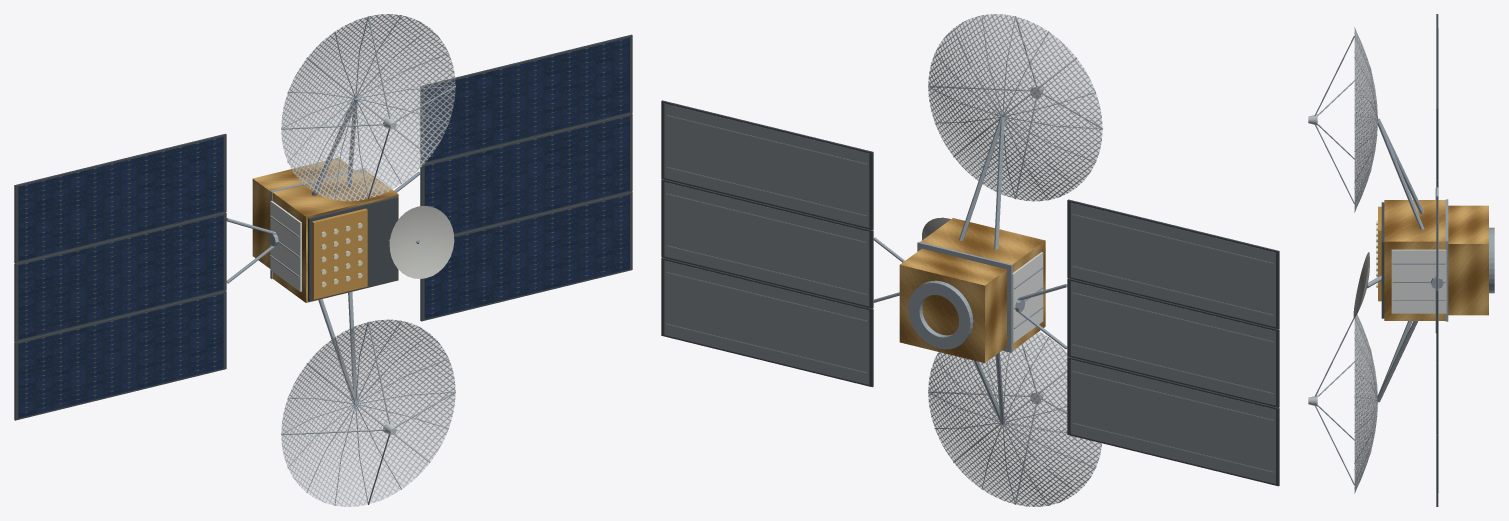
The model's file is tdrs-1.glb.
3 renders of one model, left to right at view 1: azimuth 30°, elevation 25°; view 2: azimuth 150°, elevation 25°; view 3: azimuth 270°, elevation 25°, orthographic. The views are drawn at different scales.
Parts seen in each view (by area): view 1: Solar cell panel (×6), Single-access reflector (×2), Solar panel frame (×6), Multiple-access antenna deck, Payload module, Space-to-ground antenna, Earth-facing deck, Service module, Radiator face; view 2: Rear array substrate (×6), Single-access reflector (×2), Solar panel frame (×6), Service module, Payload module, Launch adapter ring, Radiator face, Module interface, Gimbaled antenna arm; view 3: Single-access reflector (×2), Service module, Payload module, Radiator face, Gimbaled antenna arm (×4), Solar panel frame (×2), Space-to-ground antenna, Earth-facing deck, Module interface, Launch adapter ring, Multiple-access antenna deck.
Part boxes in pixels (box(x1,y1,x2,y2)): Solar cell panel (×6): box(18, 37, 629, 418); Single-access reflector (×2): box(281, 14, 455, 506); Solar panel frame (×6): box(14, 34, 632, 420); Multiple-access antenna deck: box(312, 208, 367, 299); Payload module: box(272, 170, 398, 302); Space-to-ground antenna: box(389, 206, 454, 278); Earth-facing deck: box(308, 196, 398, 301); Service module: box(252, 158, 353, 268); Radiator face: box(270, 201, 301, 291); Rear array substrate (×6): box(664, 103, 1275, 483); Single-access reflector (×2): box(928, 14, 1102, 506); Solar panel frame (×6): box(661, 100, 1279, 486); Service module: box(899, 248, 1006, 362); Payload module: box(920, 218, 1045, 350); Launch adapter ring: box(908, 280, 973, 349); Radiator face: box(1012, 252, 1043, 343); Module interface: box(917, 242, 1012, 352); Gimbaled antenna arm: box(994, 117, 1004, 249); Single-access reflector (×2): box(1354, 28, 1377, 492); Service module: box(1448, 205, 1488, 315); Payload module: box(1384, 200, 1445, 320); Radiator face: box(1391, 249, 1446, 313); Gimbaled antenna arm (×4): box(1376, 118, 1424, 402); Solar panel frame (×2): box(1436, 14, 1438, 362); Space-to-ground antenna: box(1353, 252, 1369, 318); Earth-facing deck: box(1381, 202, 1384, 318); Module interface: box(1445, 199, 1448, 321); Launch adapter ring: box(1489, 227, 1494, 293); Multiple-access antenna deck: box(1378, 206, 1381, 301).
Size of the model in its own units: 17.34 by 13.11 by 4.93.
11 materials, 3 textured.
